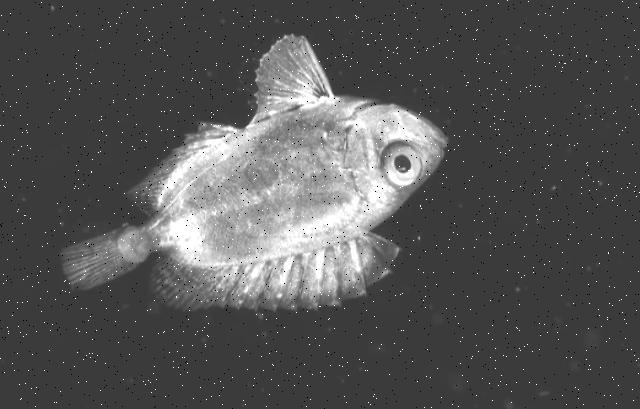Mulut: (422, 114, 460, 168)
Sirip Anal: (126, 120, 238, 208)
Sirip Ekor: (54, 212, 144, 294)
Sirip Perut: (246, 31, 334, 115)
Sirip Punggung: (156, 234, 400, 314)
